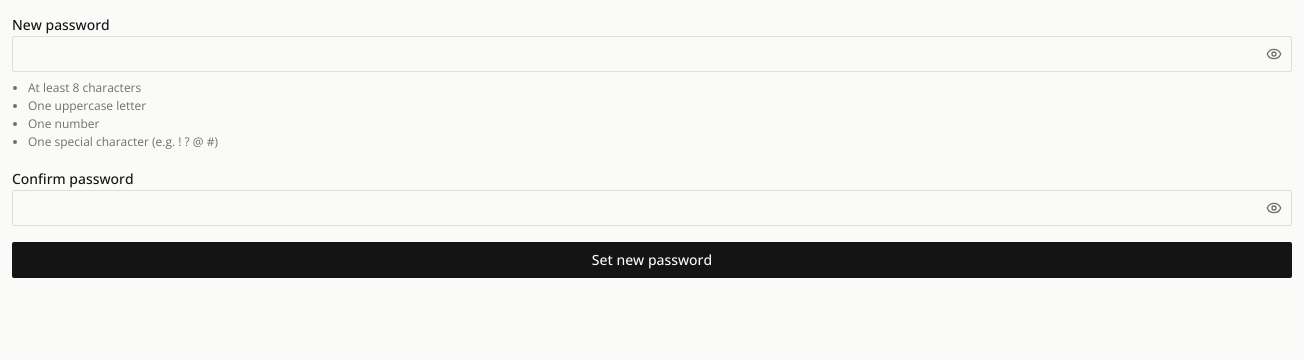
ResetPasswordForm — token + error contract › an invalid/expired token result shows a clear message and resets the button
Type "Abcdefgh1!" into the password field labelled "New password".
click(652, 54); type("Abcdefgh1!")  # box [12,36,1292,72]
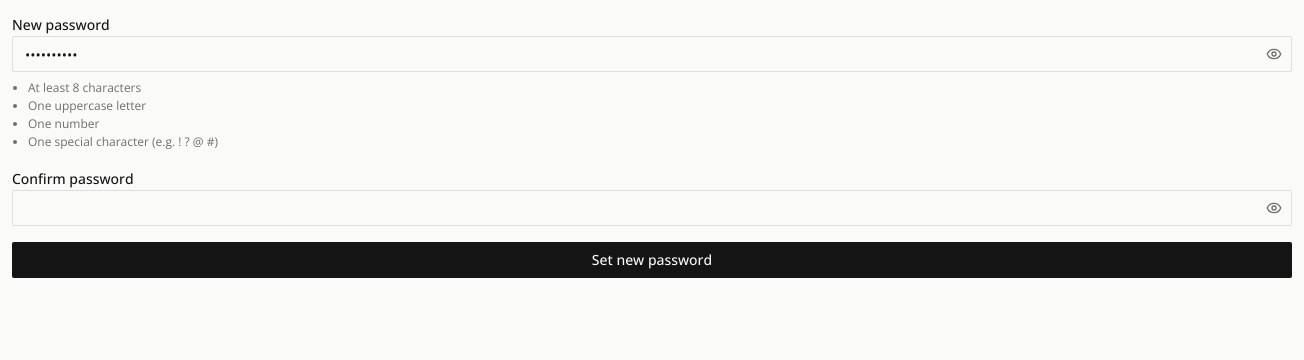
Type "Abcdefgh1!" into the password field labelled "Confirm password".
click(652, 208); type("Abcdefgh1!")  # box [12,190,1292,226]
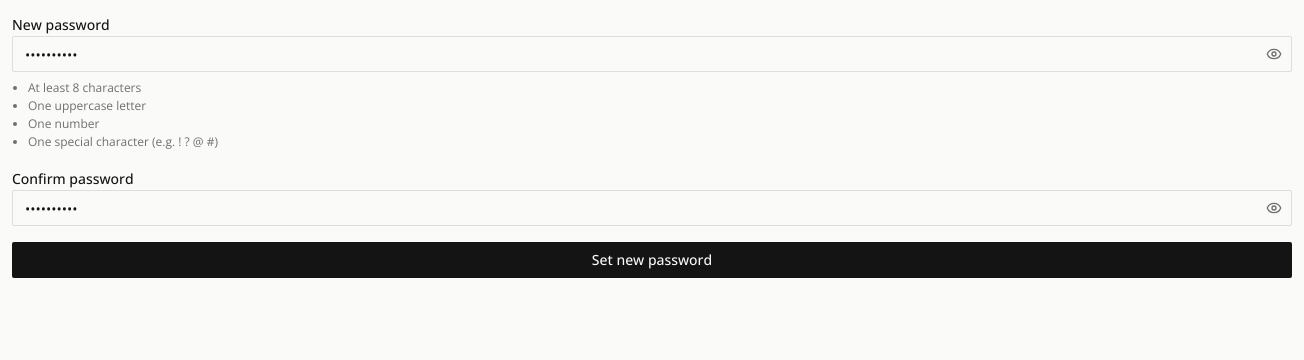
Click the button "Set new password".
click(652, 260)  # box [12,242,1292,278]
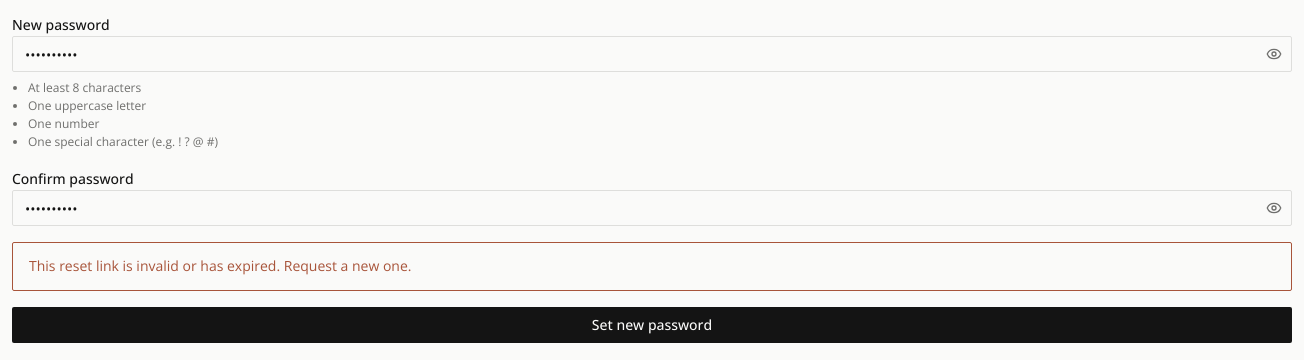
Check: the button "Set new password" is enabled, box [12,307,1292,343]
Check: the text "This reset link is invalid or has expired. Request a new one." is shown, box [29,256,412,275]
